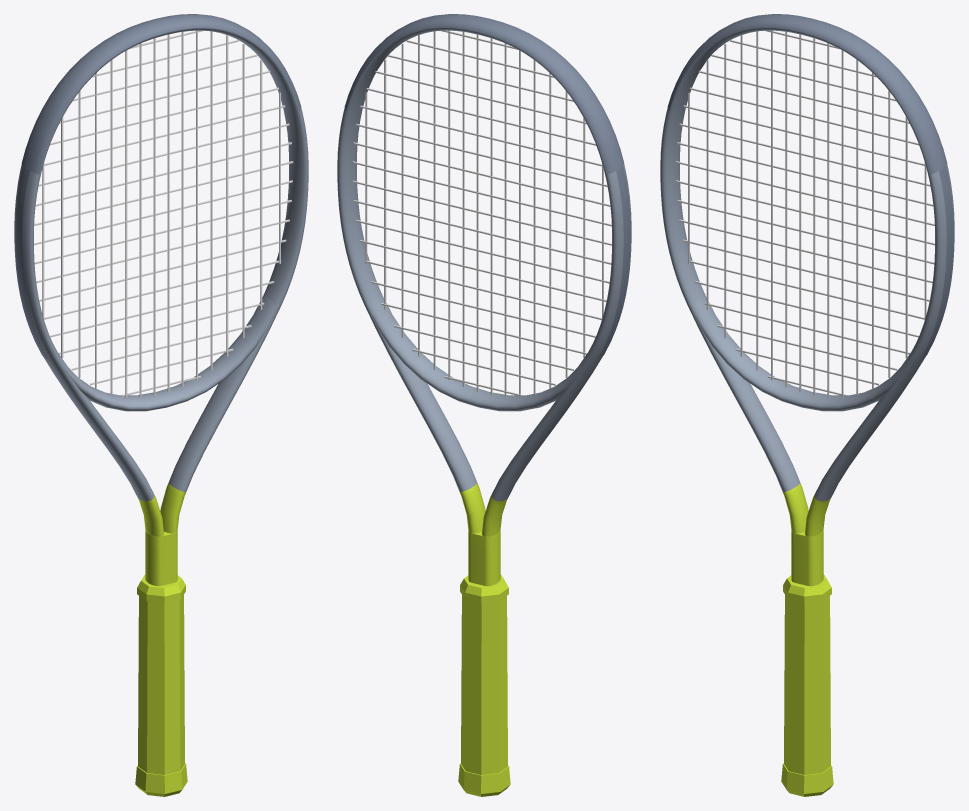
Rendered from head-graphene-360-extreme-mp.glb.
3 renders of one model, left to right at view 1: azimuth 30°, elevation 25°; view 2: azimuth 150°, elevation 25°; view 3: azimuth 330°, elevation 25°, orthographic.
Parts seen in each view (by area): view 1: frame, strings_mains, strings_crosses, grip, bumper, grommets, butt_cap, collar; view 2: frame, strings_mains, strings_crosses, grip, bumper, grommets, butt_cap, collar; view 3: frame, strings_mains, strings_crosses, grip, bumper, grommets, butt_cap, collar.
Boxes of the visible parts, x1,y1,x2,y2 form: frame: (14, 27, 308, 586); strings_mains: (42, 30, 280, 397); strings_crosses: (34, 30, 293, 396); grip: (138, 595, 184, 774); bumper: (21, 14, 301, 174); grommets: (15, 166, 47, 358); butt_cap: (135, 763, 187, 796); collar: (137, 574, 185, 603); frame: (337, 27, 631, 586); strings_mains: (365, 30, 603, 397); strings_crosses: (352, 30, 611, 396); grip: (461, 595, 507, 774); bumper: (344, 14, 624, 174); grommets: (598, 166, 630, 358); butt_cap: (458, 763, 510, 796); collar: (460, 574, 508, 603); frame: (660, 27, 954, 586); strings_mains: (688, 30, 926, 397); strings_crosses: (675, 30, 934, 396); grip: (784, 595, 830, 774); bumper: (667, 14, 947, 174); grommets: (921, 166, 953, 358); butt_cap: (781, 763, 833, 796); collar: (783, 574, 831, 603).
Bounding box in the file's own units: 0.2687 × 0.6861 × 0.0396.
